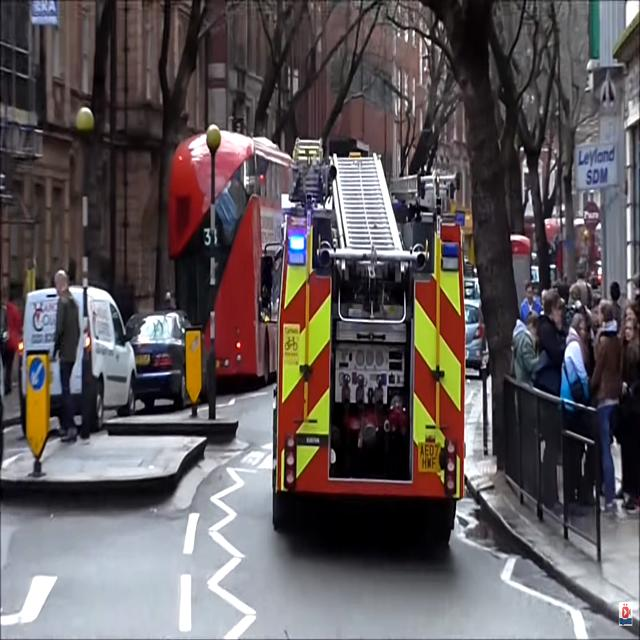emergency-vehicles: (253, 138, 475, 580)
